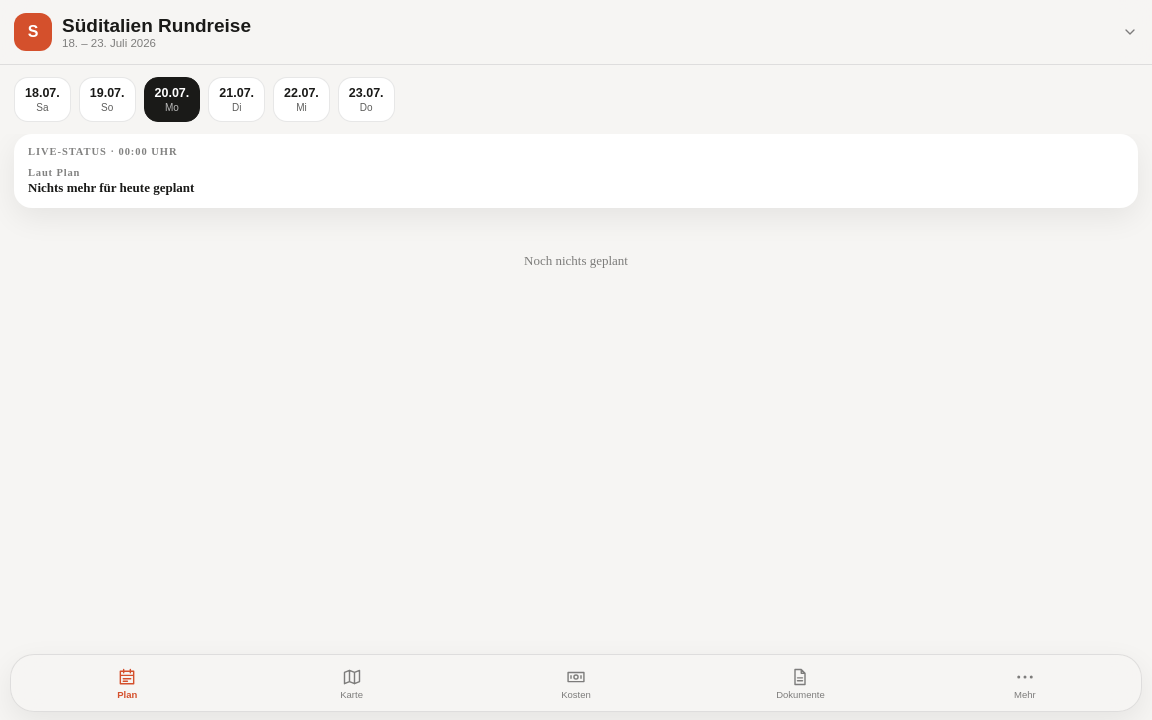
Scenario: GoView › oeffnet die gewaehlte Reise nach Auswahl in der Liste
Click the text "Süditalien Rundreise" at (156, 26), box [62,15,251,37]
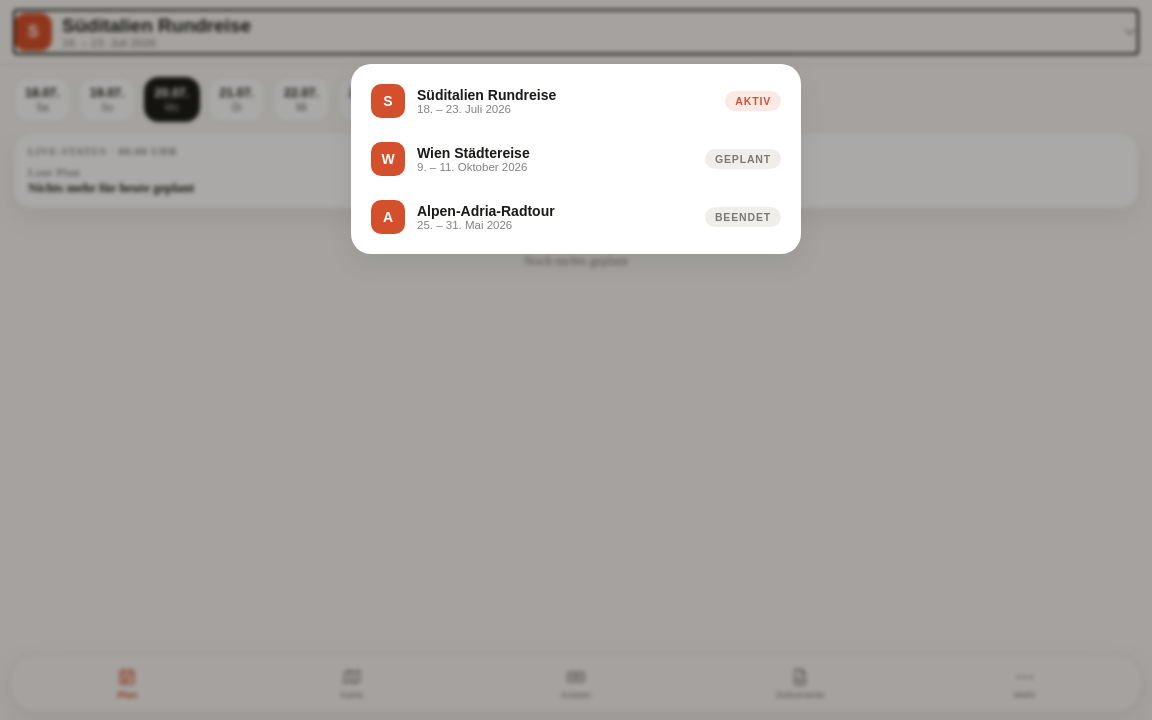
Click the text "Wien Städtereise" at (473, 153), box [417,145,530,161]
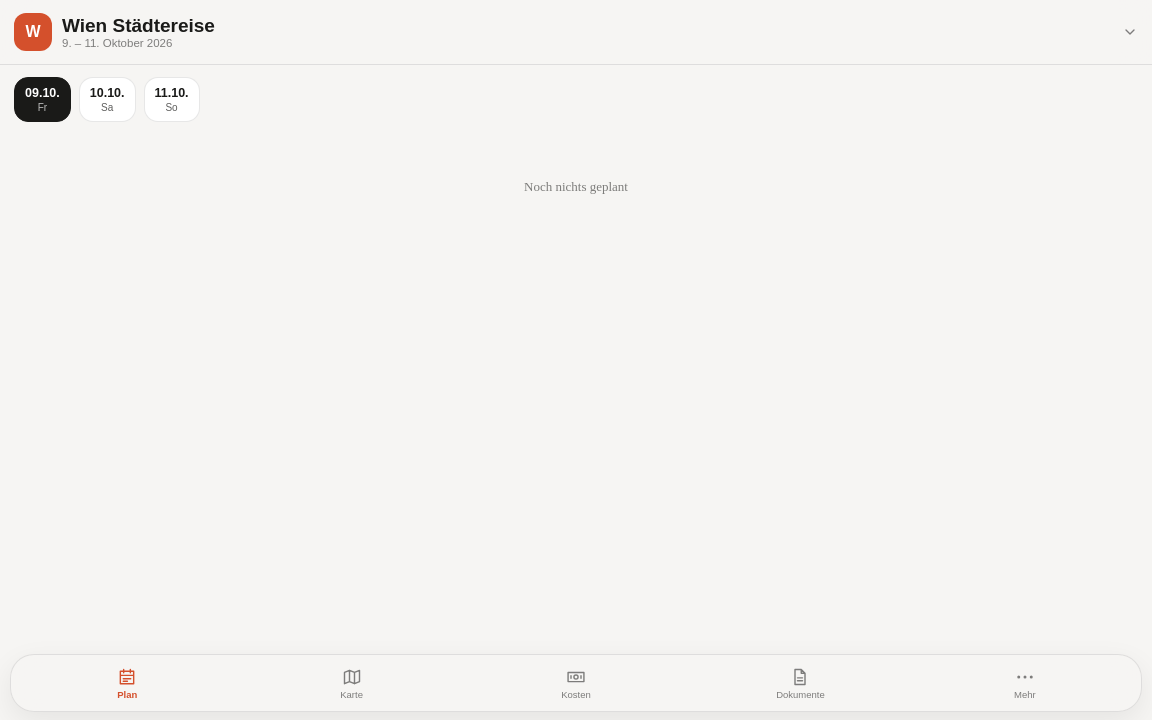
Expected: the header shows "Wien Städtereise", [14,10,1138,54]
Expected: the dialog is gone
